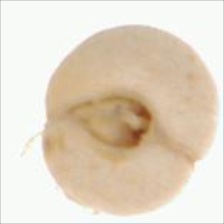L3: (68, 95, 168, 149)
L4: (42, 25, 218, 215)
